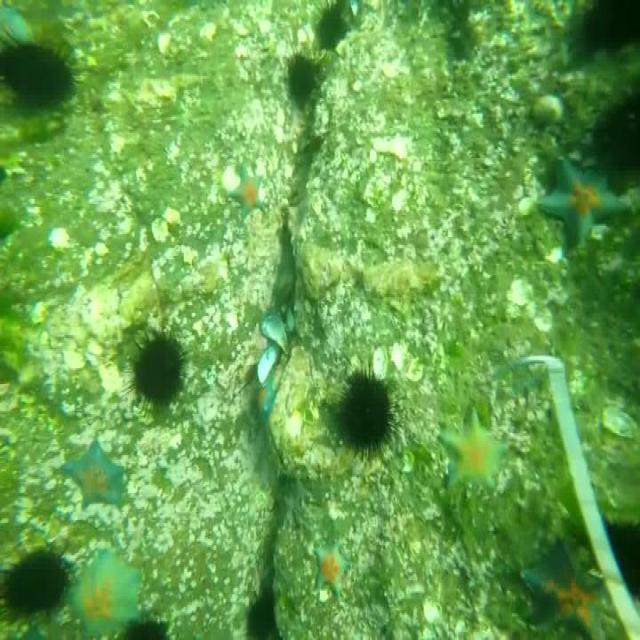echinus: (334, 365, 396, 461), (0, 33, 76, 108), (2, 540, 71, 616), (132, 324, 182, 412), (286, 41, 318, 100), (318, 1, 348, 46)
scallop: (602, 405, 636, 444), (259, 316, 293, 354), (258, 348, 284, 380), (508, 278, 534, 305), (372, 344, 390, 382), (531, 305, 553, 329), (390, 340, 407, 371)
starfish: (516, 532, 614, 640), (536, 152, 629, 251), (70, 547, 140, 640), (440, 412, 511, 500), (62, 446, 127, 502), (311, 533, 351, 602), (231, 164, 267, 218)
